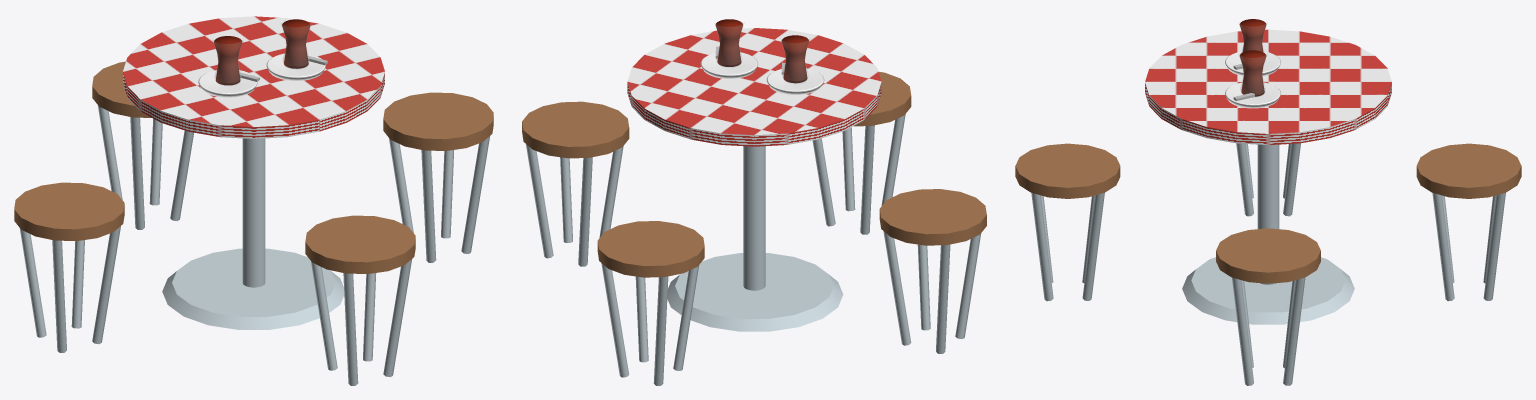
The model's file is cay-masasi.glb.
3 renders of one model, left to right at view 1: azimuth 30°, elevation 25°; view 2: azimuth 150°, elevation 25°; view 3: azimuth 270°, elevation 25°, orthographic. The views are drawn at different scales.
Visible parts, largest first — view 1: cay-masasi; view 2: cay-masasi; view 3: cay-masasi.
Boxes of the visible parts, x1,y1,x2,y2 form: cay-masasi: [14, 16, 493, 385]; cay-masasi: [522, 19, 986, 385]; cay-masasi: [1015, 19, 1521, 385].
Size of the model in its own units: 1.64 by 0.9135 by 1.64.
Materials: 7 (1 with a texture image).
